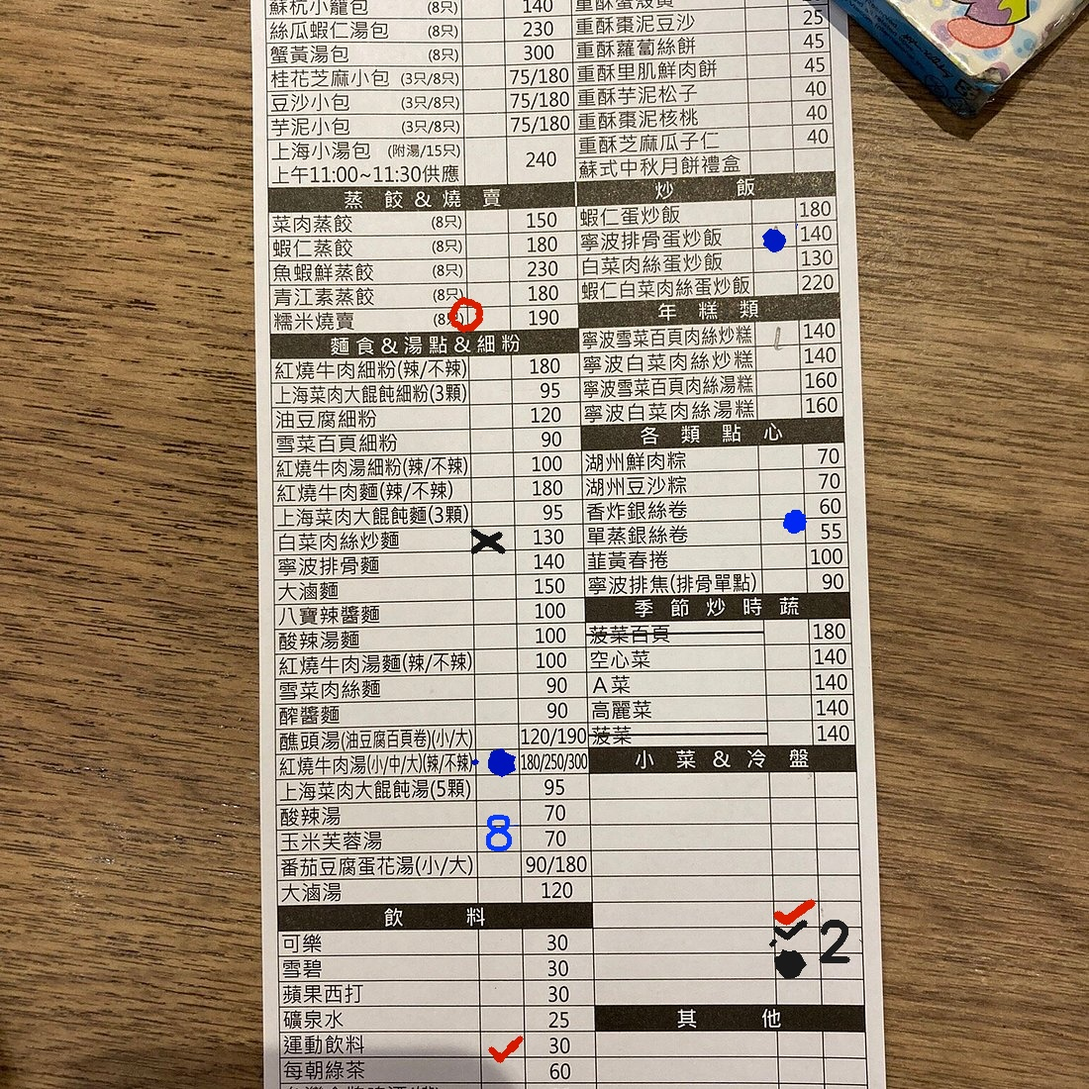marked_circle: (476, 748, 520, 776), (775, 954, 819, 982), (752, 223, 796, 250), (761, 519, 805, 546)
marked_hollow: (467, 303, 511, 331)
marked_number_2: (819, 926, 862, 953)
marked_number_8: (477, 826, 521, 853)
marked_tick: (774, 899, 818, 927), (480, 1032, 524, 1059), (774, 926, 818, 953)
marked_x: (470, 527, 514, 554)
